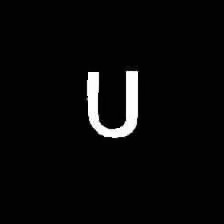LTR_U: (78, 61, 147, 143)
